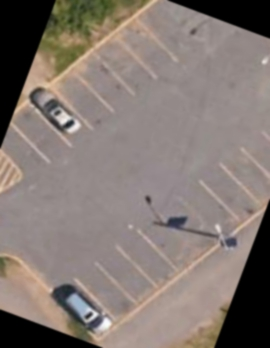parkingspot: (45, 114, 270, 343), (0, 11, 185, 188)
